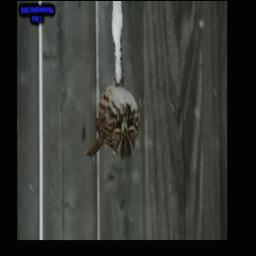Sparrow: (86, 73, 141, 161)
